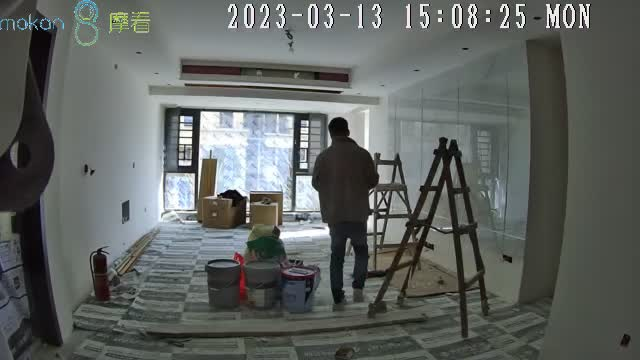people: (311, 116, 379, 312)
window: (164, 106, 328, 214)
